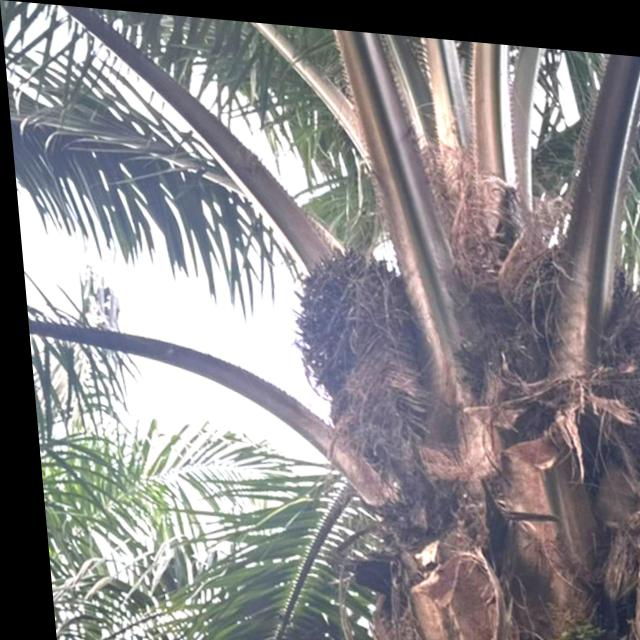unripe: (273, 229, 419, 411)
